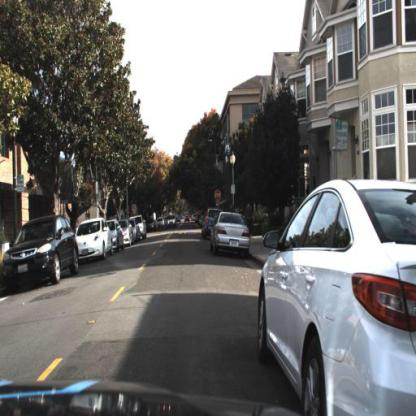car: (257, 178, 415, 412), (3, 215, 83, 292), (210, 211, 252, 258), (76, 218, 114, 263), (110, 218, 124, 253), (166, 215, 177, 229)
pedestrian: (246, 203, 256, 235)
